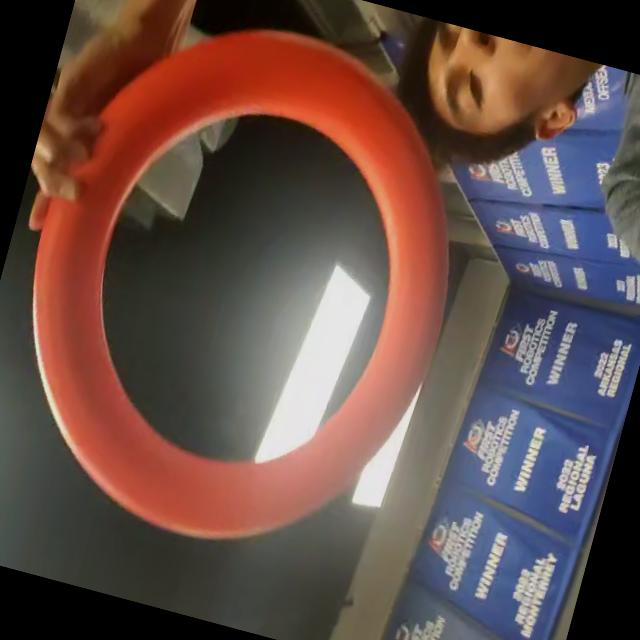note: (0, 0, 516, 592)
